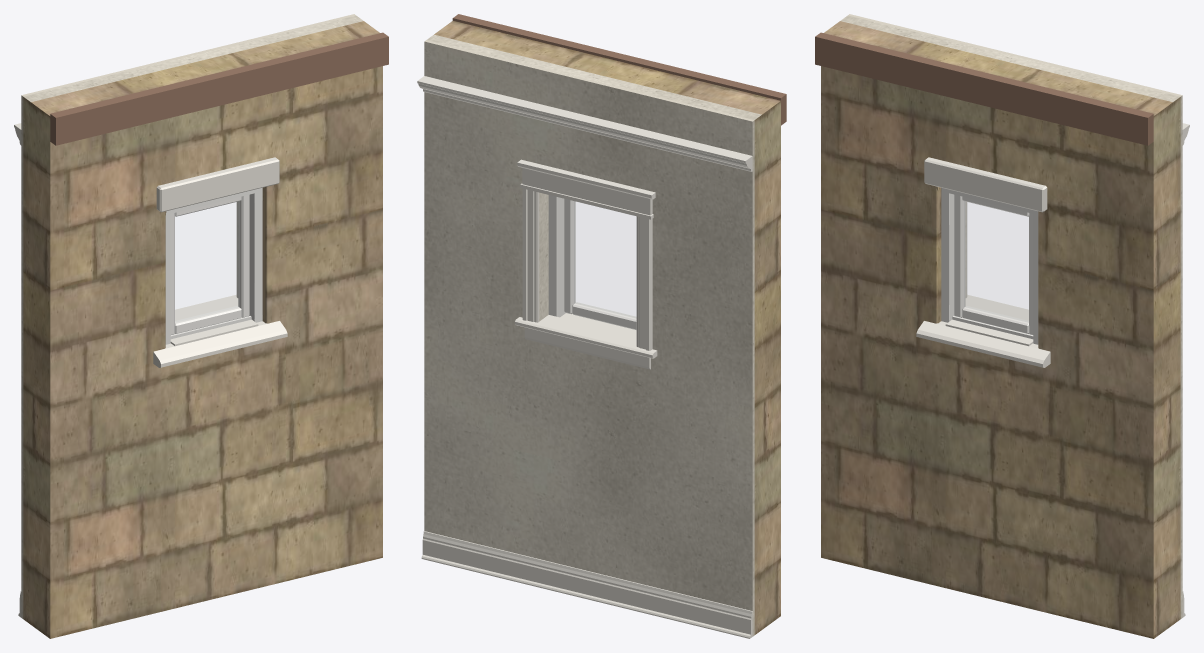
The model's file is wall_stone_small_window.glb.
3 views of the same model, side by side, from view 1: azimuth 30°, elevation 25°; view 2: azimuth 150°, elevation 25°; view 3: azimuth 330°, elevation 25° (orthographic).
Parts seen in each view (by area): view 1: wall_stone_small_window_stone2, wall_stone_small_window_timber, folha_glass, wall_stone_small_window_trim, wall_stone_small_window_plaster, wall_stone_small_window_frame, folha_sash, molduras; view 2: wall_stone_small_window_plaster, molduras, wall_stone_small_window_stone2, folha_glass, wall_stone_small_window_timber, folha_sash, wall_stone_small_window_frame; view 3: wall_stone_small_window_stone2, wall_stone_small_window_timber, folha_glass, wall_stone_small_window_trim, wall_stone_small_window_plaster, wall_stone_small_window_frame, folha_sash, molduras.
Boxes of the visible parts, bbox=[...] form: wall_stone_small_window_stone2: bbox=[23, 21, 382, 638]; wall_stone_small_window_timber: bbox=[50, 32, 388, 145]; folha_glass: bbox=[175, 202, 239, 321]; wall_stone_small_window_trim: bbox=[153, 157, 287, 367]; wall_stone_small_window_plaster: bbox=[21, 14, 363, 618]; wall_stone_small_window_frame: bbox=[165, 187, 262, 344]; folha_sash: bbox=[170, 194, 249, 334]; molduras: bbox=[14, 123, 238, 617]; wall_stone_small_window_plaster: bbox=[424, 34, 761, 636]; molduras: bbox=[417, 76, 752, 638]; wall_stone_small_window_stone2: bbox=[434, 21, 780, 634]; folha_glass: bbox=[574, 202, 635, 317]; wall_stone_small_window_timber: bbox=[452, 14, 786, 125]; folha_sash: bbox=[564, 198, 636, 329]; wall_stone_small_window_frame: bbox=[548, 195, 565, 317]; wall_stone_small_window_stone2: bbox=[821, 21, 1180, 638]; wall_stone_small_window_timber: bbox=[815, 32, 1153, 145]; folha_glass: bbox=[964, 202, 1028, 321]; wall_stone_small_window_trim: bbox=[916, 157, 1050, 367]; wall_stone_small_window_plaster: bbox=[840, 14, 1182, 618]; wall_stone_small_window_frame: bbox=[941, 187, 1038, 344]; folha_sash: bbox=[954, 194, 1033, 334]; molduras: bbox=[965, 123, 1189, 617].
Size of the model in its own units: 2 by 3.02 by 0.455.
Materials: 7 (2 with a texture image).
